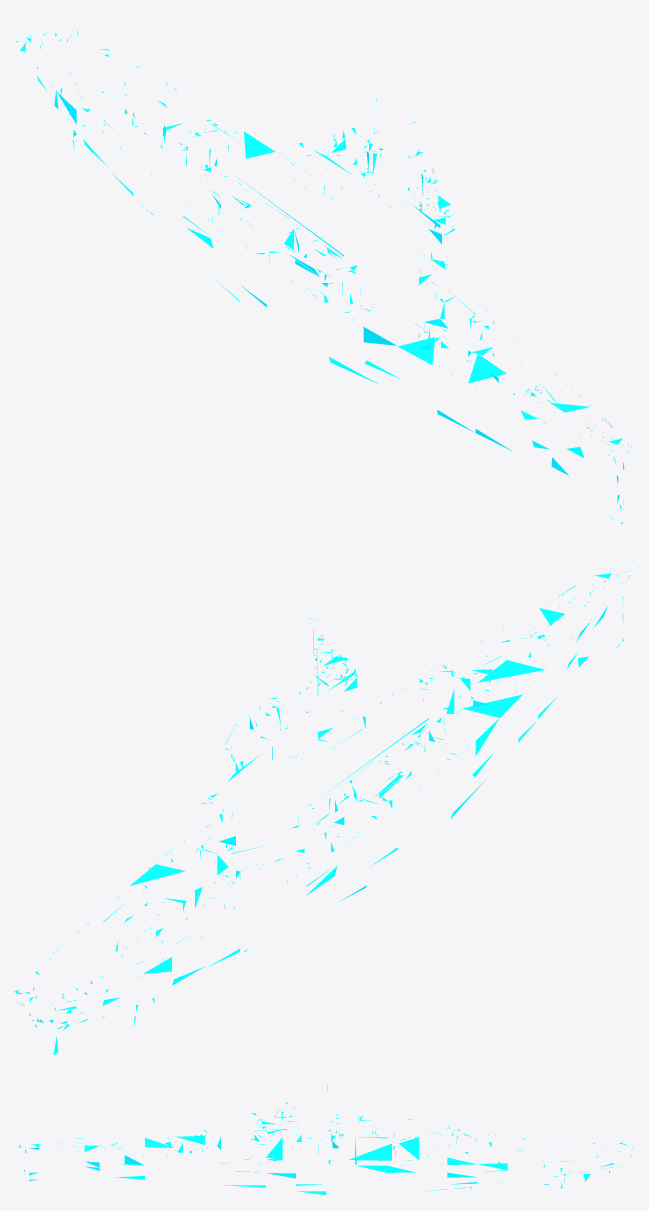
The model's file is Kearsarge.glb.
3 renders of one model, top to bottom at view 1: azimuth 30°, elevation 25°; view 2: azimuth 150°, elevation 25°; view 3: azimuth 270°, elevation 25°, orthographic. The views are drawn at different scales.
Size of the model in its own units: 2.64 by 3.95 by 20.45.
